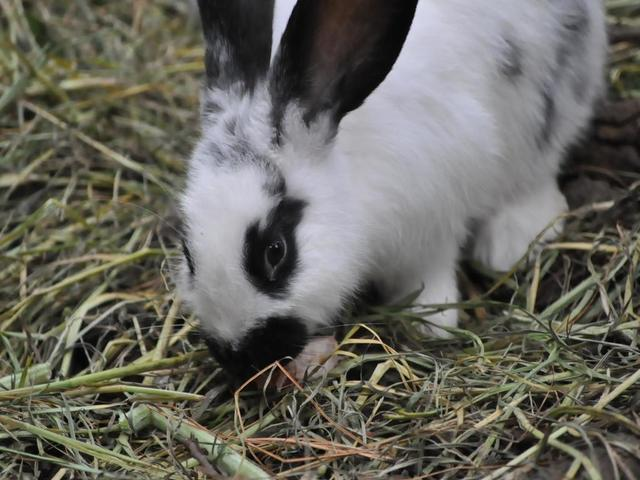rabbit: (158, 5, 615, 416)
